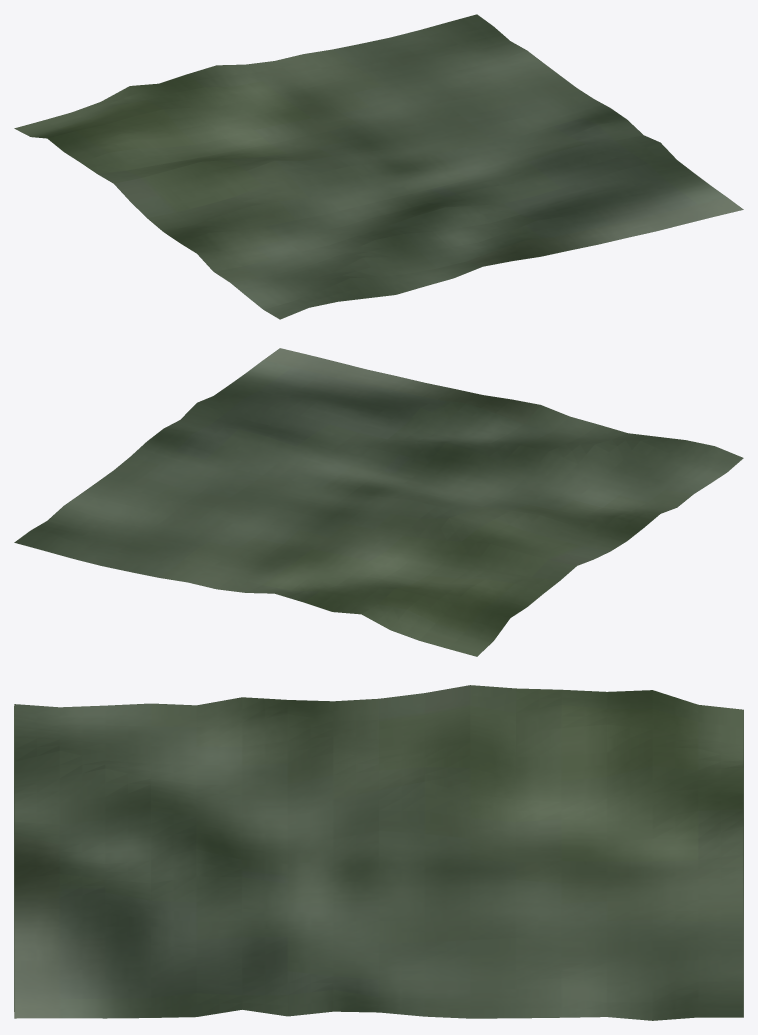
The picture shows the model from 3 angles, top to bottom: view 1: azimuth 30°, elevation 25°; view 2: azimuth 150°, elevation 25°; view 3: azimuth 270°, elevation 25°; orthographic projection. The views are drawn at different scales.
Size of the model in its own units: 15615 by 658 by 15538.
1 material, 1 textured.
